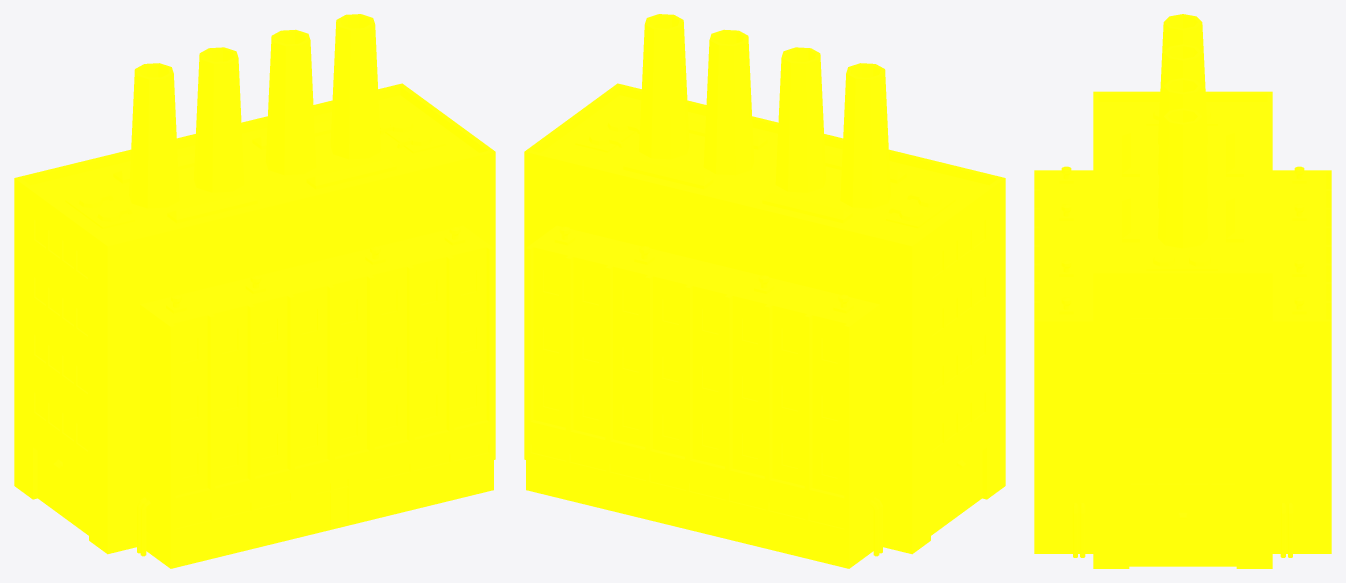
Rendered from industry-factory.glb.
3 views of the same model, side by side, from view 1: azimuth 30°, elevation 25°; view 2: azimuth 150°, elevation 25°; view 3: azimuth 270°, elevation 25° (orthographic). The views are drawn at different scales.
Parts seen in each view (by area): view 1: industry-factory; view 2: industry-factory; view 3: industry-factory.
Part boxes in pixels (left/top/right/bottom): industry-factory: left=14, top=14, right=495, bottom=568; industry-factory: left=524, top=14, right=1005, bottom=568; industry-factory: left=1034, top=14, right=1331, bottom=568.
Size of the model in its own units: 24.71 by 25.21 by 16.6.
1 material, 1 textured.
